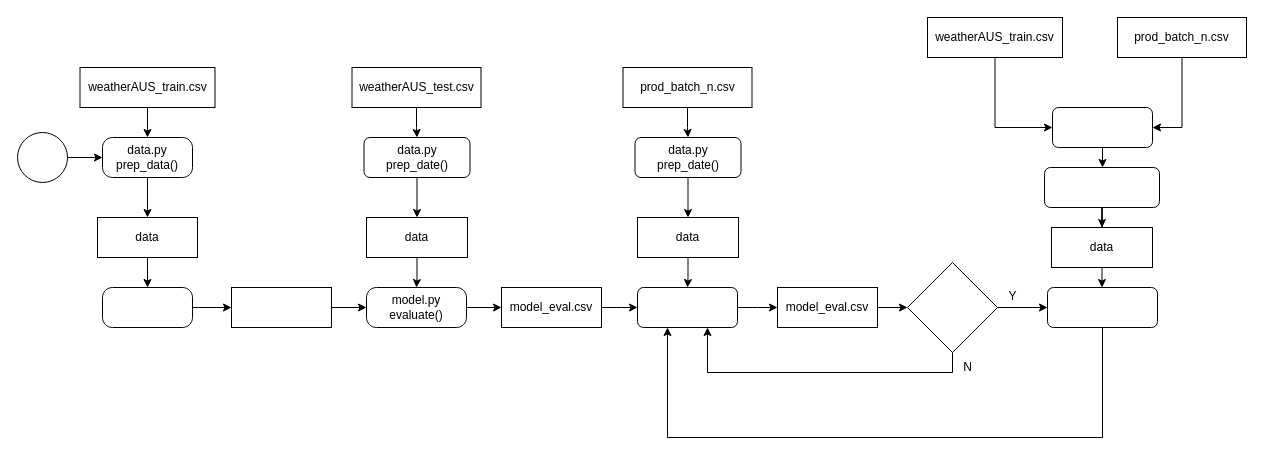
Some shapes in this 1264 by 463 pixel diagram are drawn without their labels. The box of each missing label's shape, as (x1, y1, x2, y2) in pixels:
combine_data(): (1052, 106, 1152, 148)
data.py prep_retrain_data(): (1044, 166, 1160, 208)
eval_AUC > prod_AUC: (906, 262, 998, 352)
main.py: (16, 132, 68, 182)
model.py prod(): (636, 286, 738, 328)
model.py retrain(): (1046, 286, 1158, 328)
model.py train(): (102, 286, 192, 328)
YYYY-MM-DD-hh-mm-model.pkl: (230, 286, 332, 328)
